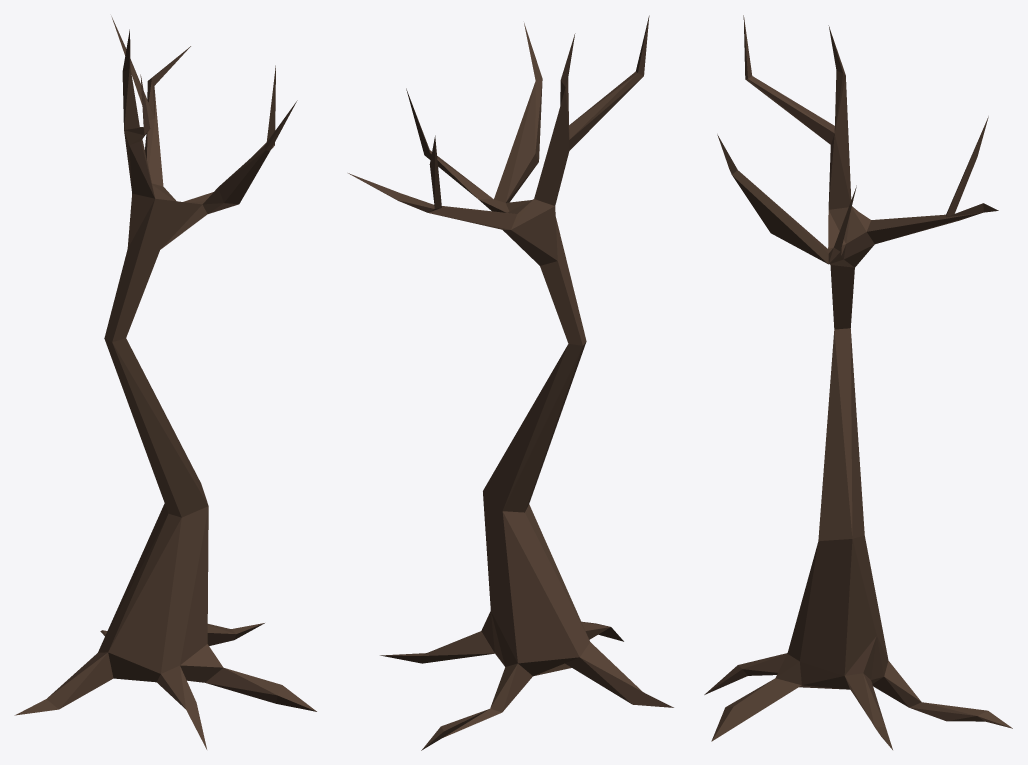
Rendered from Taiga_Tronc4.fbx.
3 renders of one model, left to right at view 1: azimuth 30°, elevation 25°; view 2: azimuth 150°, elevation 25°; view 3: azimuth 270°, elevation 25°, orthographic. The views are drawn at different scales.
Parts seen in each view (by area): view 1: Vert.012; view 2: Vert.012; view 3: Vert.012.
Boxes of the visible parts, x1=… form: Vert.012: x1=14, y1=16, x2=316, y2=749; Vert.012: x1=348, y1=15, x2=673, y2=750; Vert.012: x1=704, y1=15, x2=1012, y2=749.
Size of the model in its own units: 129 by 305 by 127.
